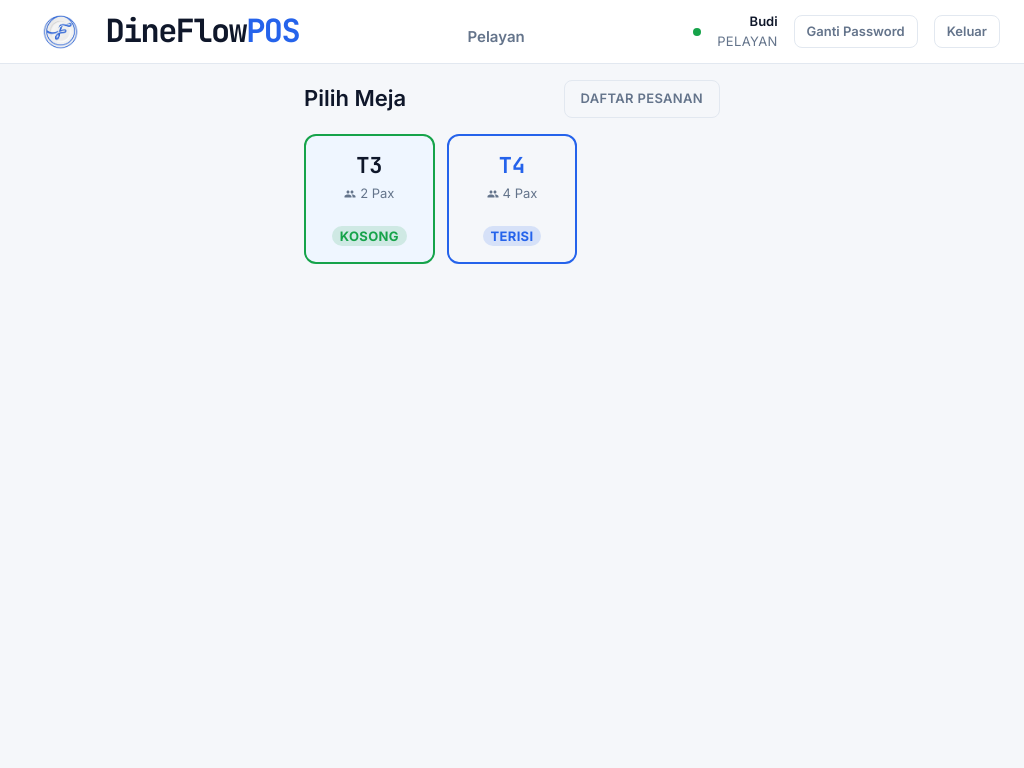
it: PelayanPage alur bayar QRIS › menampilkan error 409 tanpa memalsukan reference
Click the button "T3 2 Pax Kosong".
click(369, 199)  # box [304,134,435,264]
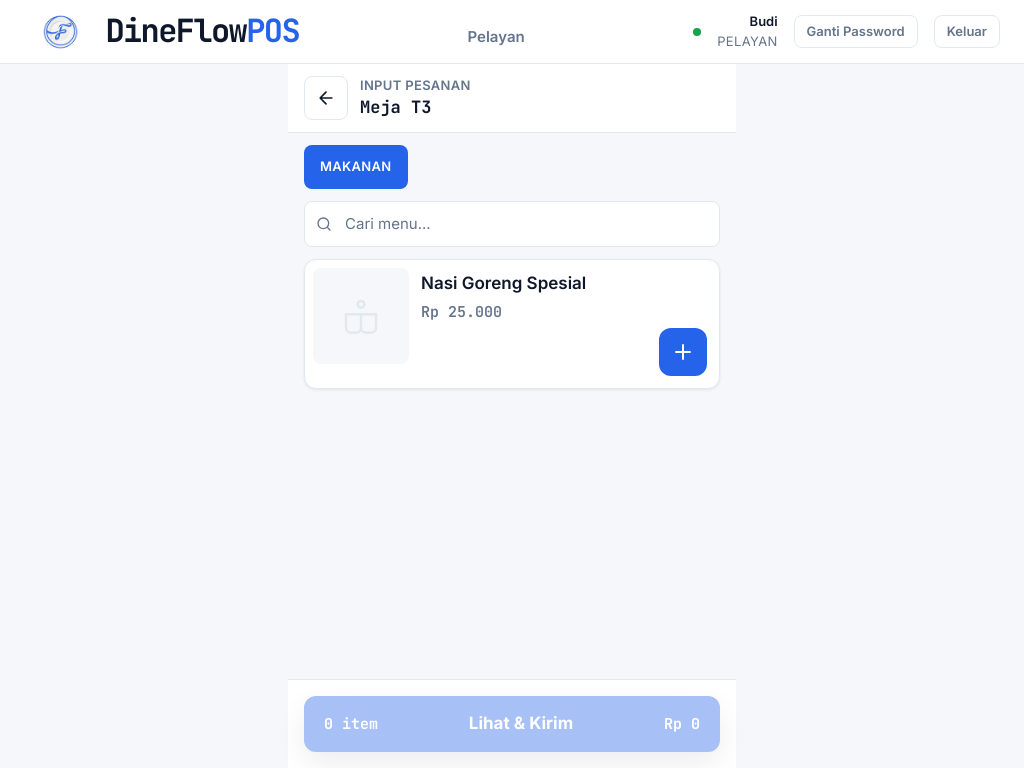
Click the button named "Tambah Nasi Goreng Spesial".
click(683, 352)  # box [659,328,707,376]
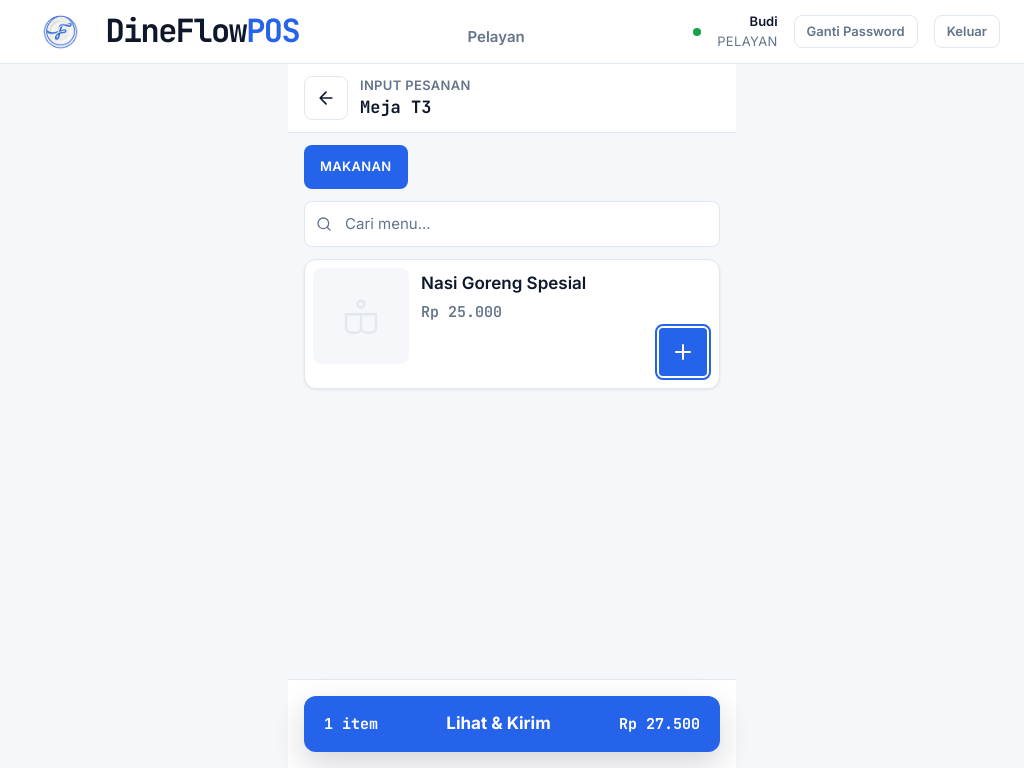
Now the button "1 item Lihat & Kirim Rp 27.500" is enabled
Click the button "1 item Lihat & Kirim Rp 27.500".
click(512, 724)  # box [304,696,720,752]
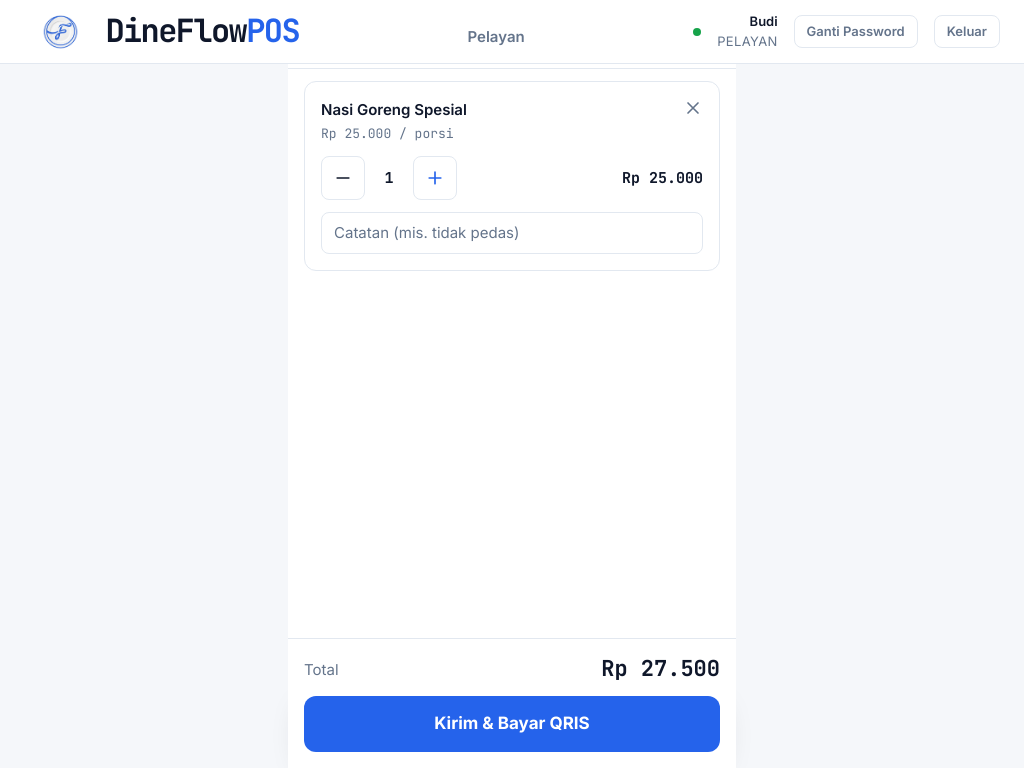
Now the button "Kirim & Bayar QRIS" is enabled
Click the button "Kirim & Bayar QRIS".
click(512, 724)  # box [304,696,720,752]
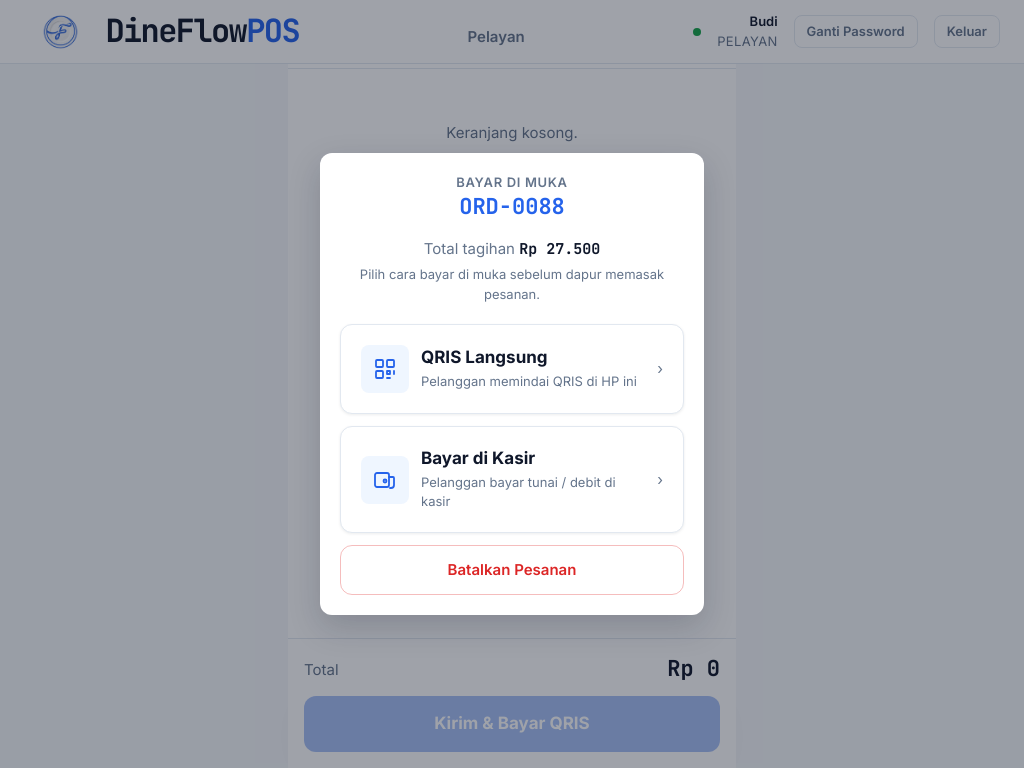
Now the text "Bayar di Kasir" is shown, box [421,448,535,468]
Click the button "QRIS Langsung Pelanggan memindai QRIS di HP ini ›".
click(512, 369)  # box [340,324,684,414]
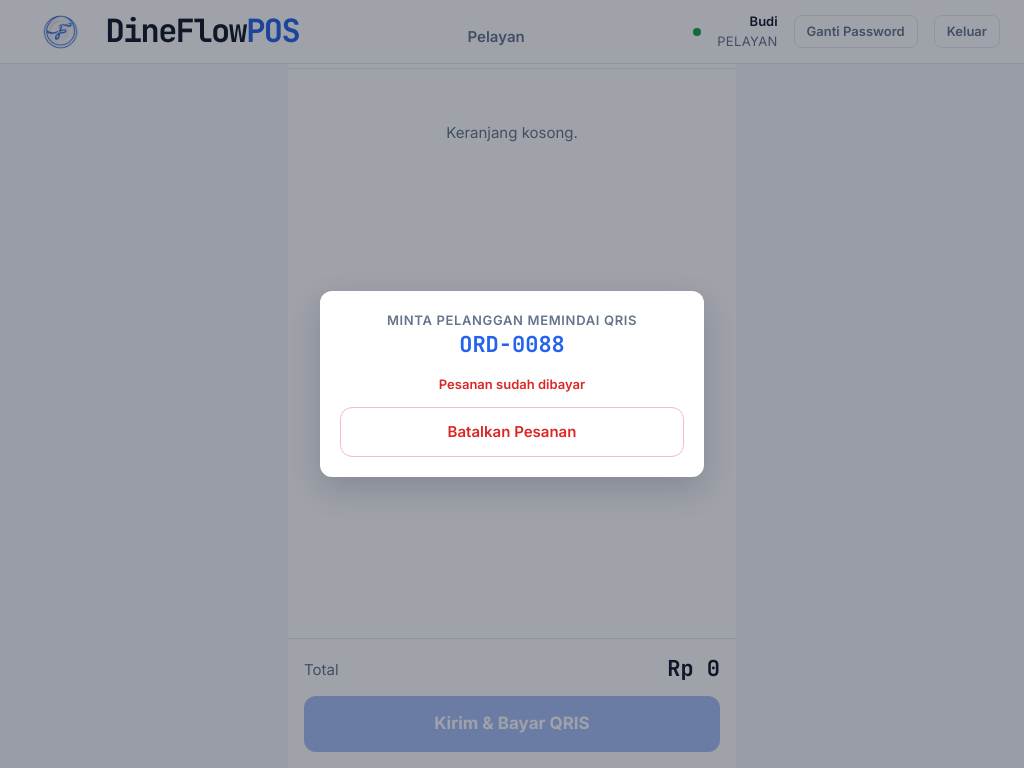
Now the text "Pesanan sudah dibayar" is shown, box [439,376,585,392]
